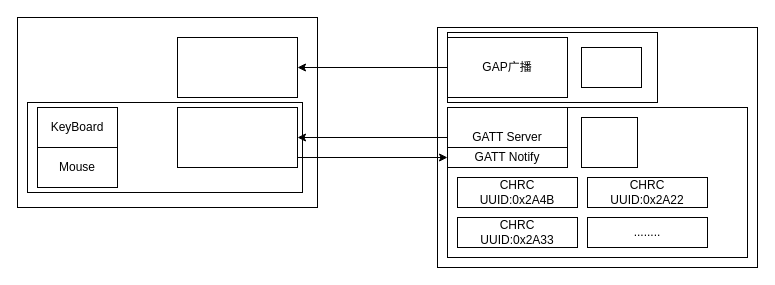
This 775x285 diagram has some shape labels left out. The shapes that lost their labels are listed below. From the top down, each one's centre as x and y in pixels, then its label:
At pixel 237 67: "广播扫描".
At pixel 611 67: "UUID： 0x1812".
At pixel 237 137: "GATT Client".
At pixel 609 142: "report map".
